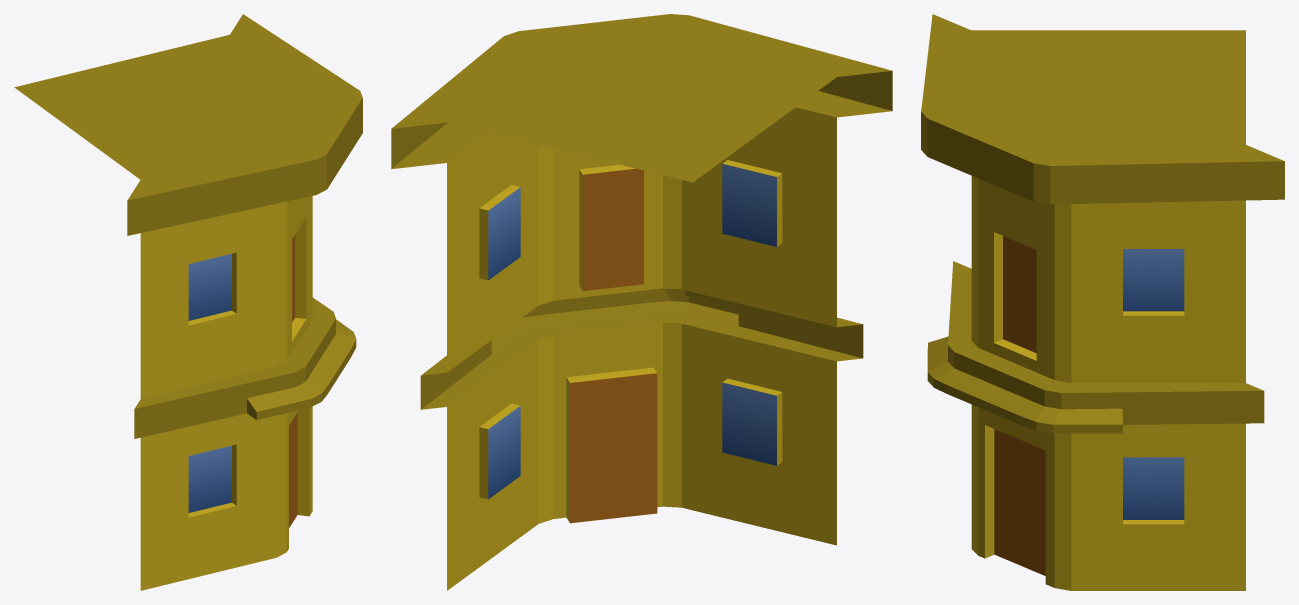
File: yellow_house.fbx
The picture shows the model from 3 angles, left to right: view 1: azimuth 30°, elevation 25°; view 2: azimuth 150°, elevation 25°; view 3: azimuth 270°, elevation 25°; orthographic projection. The views are drawn at different scales.
Parts seen in each view (by area): view 1: yellow_house; view 2: yellow_house; view 3: yellow_house.
Boxes of the visible parts, left/top/right/bottom form: yellow_house: left=14, top=14, right=362, bottom=590; yellow_house: left=391, top=14, right=892, bottom=590; yellow_house: left=921, top=14, right=1284, bottom=590.
Size of the model in its own units: 923 by 1263 by 933.
Materials: 1 (1 with a texture image).
